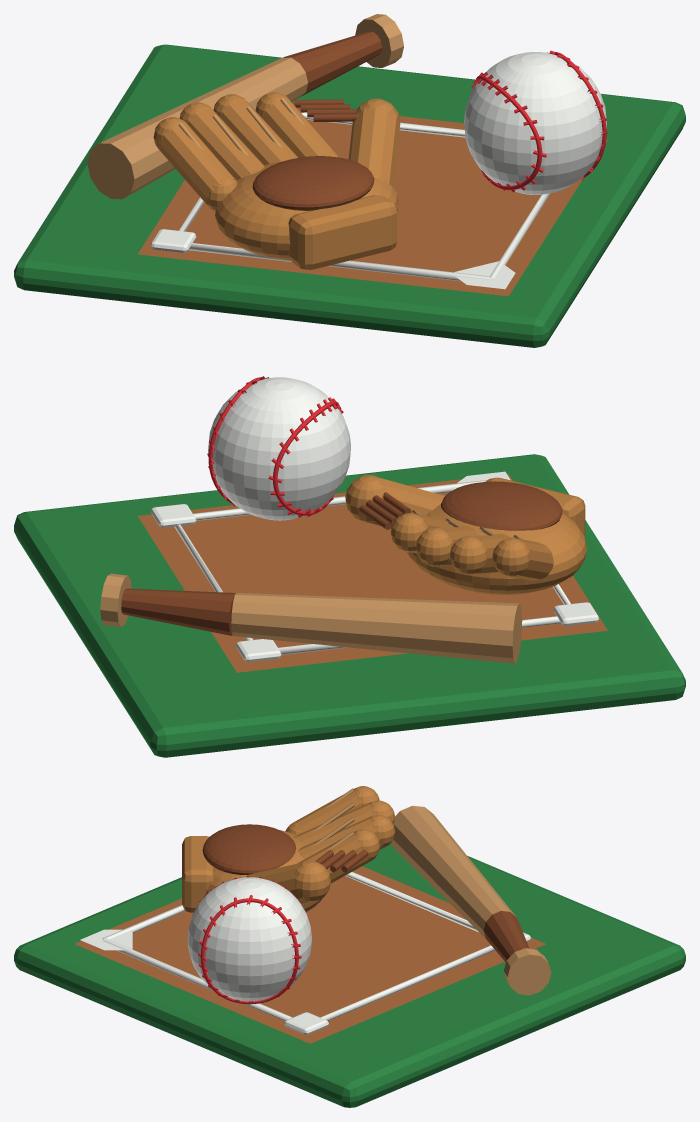
File: baseball.glb
3 renders of one model, top to bottom at view 1: azimuth 30°, elevation 25°; view 2: azimuth 150°, elevation 25°; view 3: azimuth 270°, elevation 25°, orthographic. The views are drawn at different scales.
Parts seen in each view (by area): view 1: baseball; view 2: baseball; view 3: baseball.
Boxes of the visible parts, x1=… form: baseball: x1=14, y1=14, x2=685, y2=347; baseball: x1=14, y1=376, x2=685, y2=757; baseball: x1=14, y1=786, x2=685, y2=1107.
Size of the model in its own units: 0.3557 by 0.083 by 0.3557.
